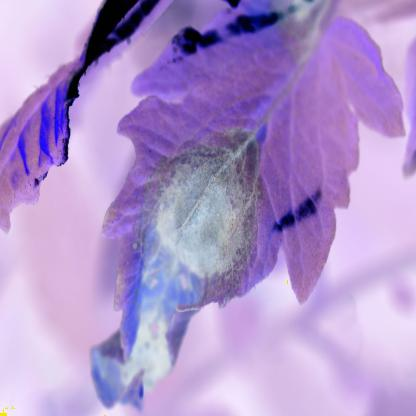tomato leaf late blight: (89, 16, 409, 413)
